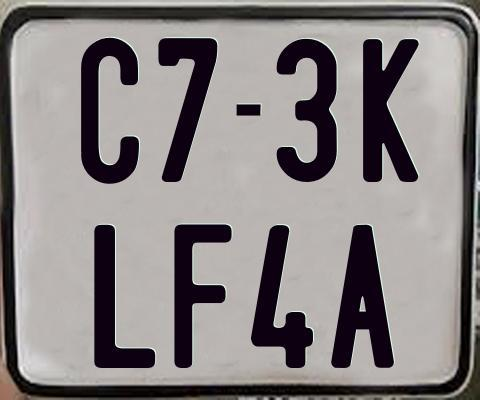3: (276, 38, 341, 185)
4: (250, 224, 314, 371)
7: (155, 38, 216, 184)
A: (329, 225, 398, 368)
C: (80, 37, 141, 185)
F: (173, 222, 232, 368)
K: (360, 36, 416, 180)
L: (91, 225, 156, 370)
